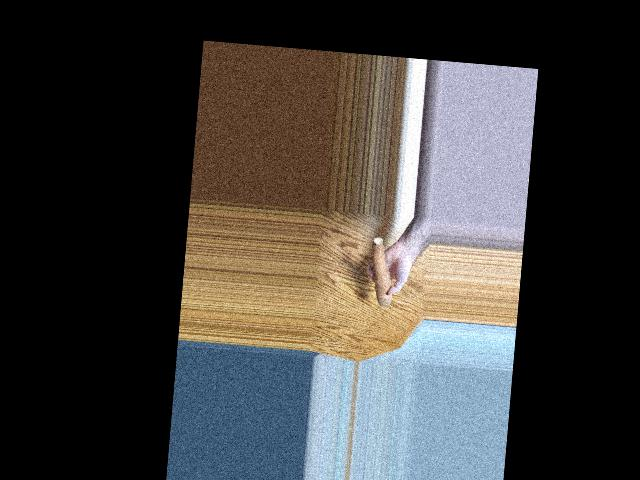sweet_potato: (368, 234, 392, 310)
